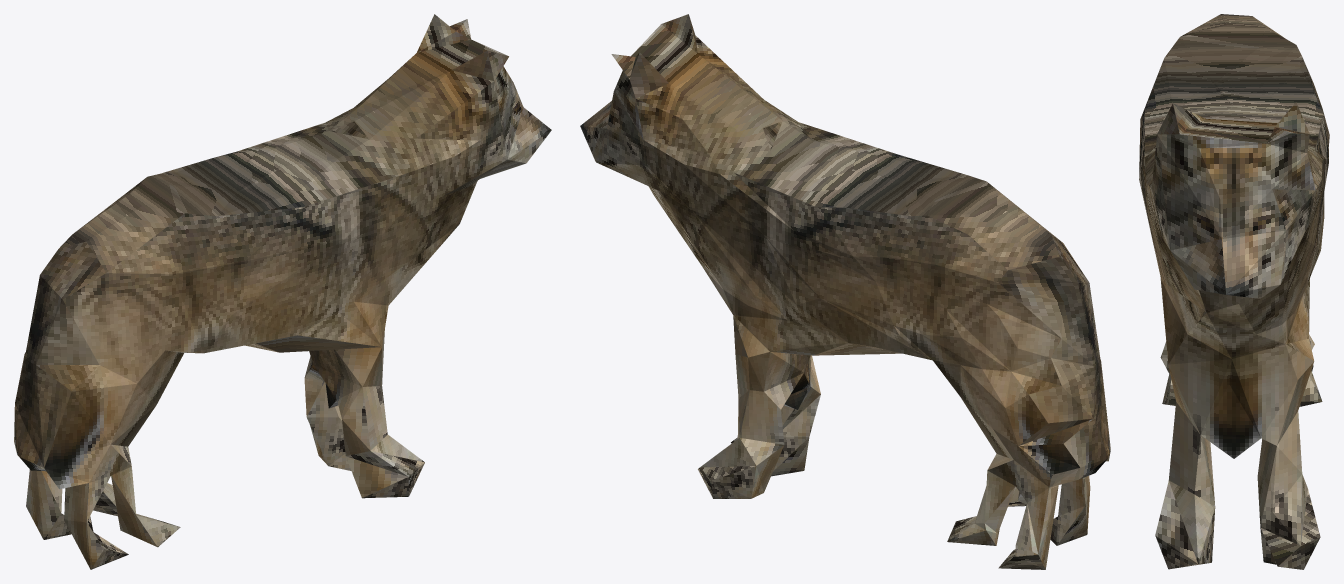
File: animal.salvaje.lobo.glb
The picture shows the model from 3 angles, left to right: view 1: azimuth 30°, elevation 25°; view 2: azimuth 150°, elevation 25°; view 3: azimuth 270°, elevation 25°; orthographic projection. The views are drawn at different scales.
Visible parts, largest first — view 1: animal.salvaje.lobo; view 2: animal.salvaje.lobo; view 3: animal.salvaje.lobo.
Part boxes in pixels (x1,y1,x2,y2): animal.salvaje.lobo: [14, 14, 551, 569]; animal.salvaje.lobo: [580, 14, 1110, 569]; animal.salvaje.lobo: [1139, 14, 1329, 569].
Size of the model in its own units: 1.4 by 1.08 by 0.3615.
Materials: 1 (1 with a texture image).
